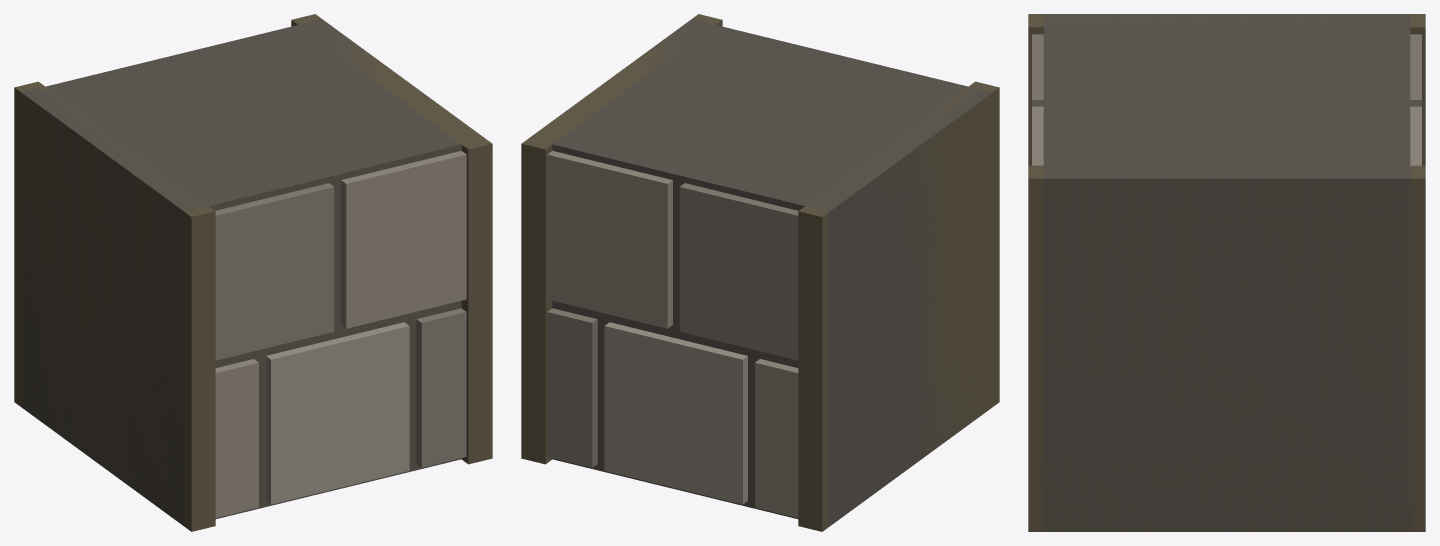
File: terrain_wall.obj
3 renders of one model, left to right at view 1: azimuth 30°, elevation 25°; view 2: azimuth 150°, elevation 25°; view 3: azimuth 270°, elevation 25°, orthographic. The views are drawn at different scales.
Visible parts, largest first — view 1: terrain_wall; view 2: terrain_wall; view 3: terrain_wall.
Boxes of the visible parts, x1,y1,x2,y2 form: terrain_wall: (14, 14, 492, 531); terrain_wall: (521, 14, 999, 531); terrain_wall: (1028, 14, 1425, 531).
Bounding box in the file's own units: 1 × 1 × 1.02.
Materials: 1 (1 with a texture image).
